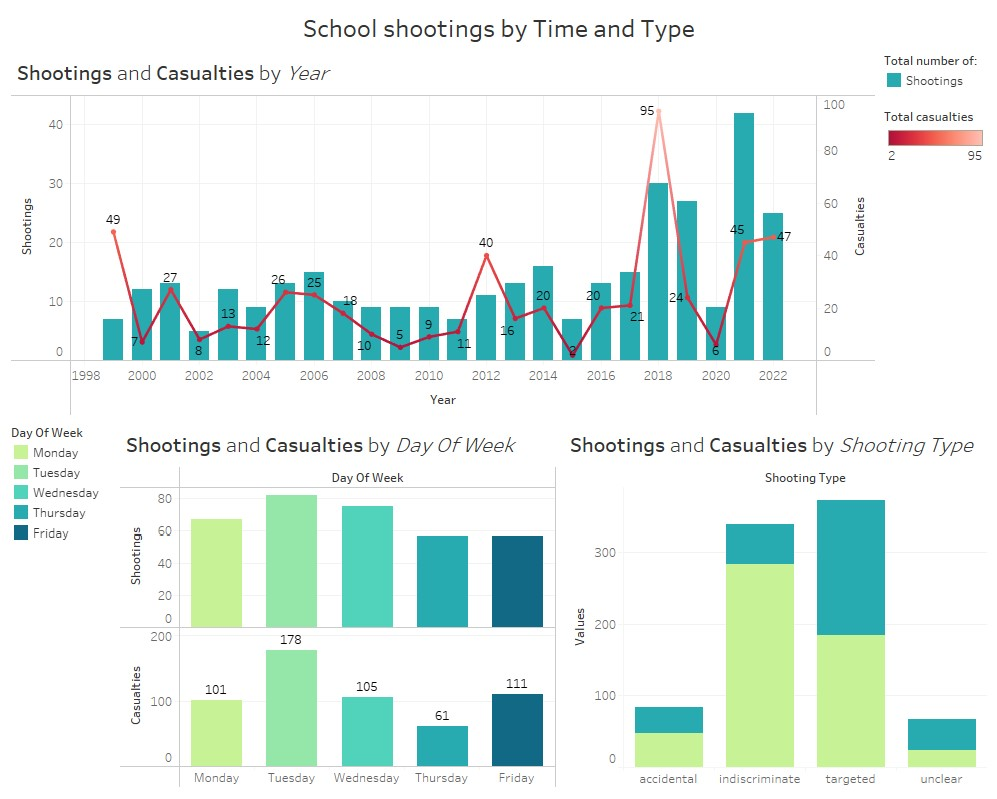

Layout of this report page (visuals, bound fields, positions):
{"tool":"tableau","page":{"name":"Dashboard 1","canvas":[1000,800],"ordinal":0},"visuals":[{"type":"title","box":[8,8,984,41]},{"type":"worksheet","title":"Foglio 2","mark":"Automatic","rows":["uid","casualties"],"cols":["year"],"box":[8,49,873,372.2]},{"type":"legend","title":"Foglio 2","param":"[federated.00n8yx204fzjsb174z7tm0abgyw3].[:Measure Names]","box":[881,49,111,55.9]},{"type":"legend","title":"Foglio 2","param":"[federated.00n8yx204fzjsb174z7tm0abgyw3].[sum:casualties:qk]","box":[881,104.9,111,316.3]},{"type":"legend","title":"Foglio 1","param":"[federated.00n8yx204fzjsb174z7tm0abgyw3].[none:day_of_week:nk]","box":[8,421.2,109,370.8]},{"type":"worksheet","title":"Foglio 1","mark":"Automatic","rows":["uid","casualties"],"cols":["day_of_week"],"box":[117,421.2,444,370.8]},{"type":"worksheet","title":"Foglio 8","mark":"Automatic","cols":["shooting_type"],"box":[561,421.2,431,370.8]}]}

Visuals, with their boxes in screenshot pixels (x1, y1, x2, y2), scaled from the page's 1000x800 canvas onto the 997x799 screenshot:
title: <region>8, 8, 989, 49</region>
"Foglio 2" worksheet: <region>8, 49, 878, 421</region>
"Foglio 2" legend: <region>878, 49, 989, 105</region>
"Foglio 2" legend: <region>878, 105, 989, 421</region>
"Foglio 1" legend: <region>8, 421, 117, 791</region>
"Foglio 1" worksheet: <region>117, 421, 559, 791</region>
"Foglio 8" worksheet: <region>559, 421, 989, 791</region>
